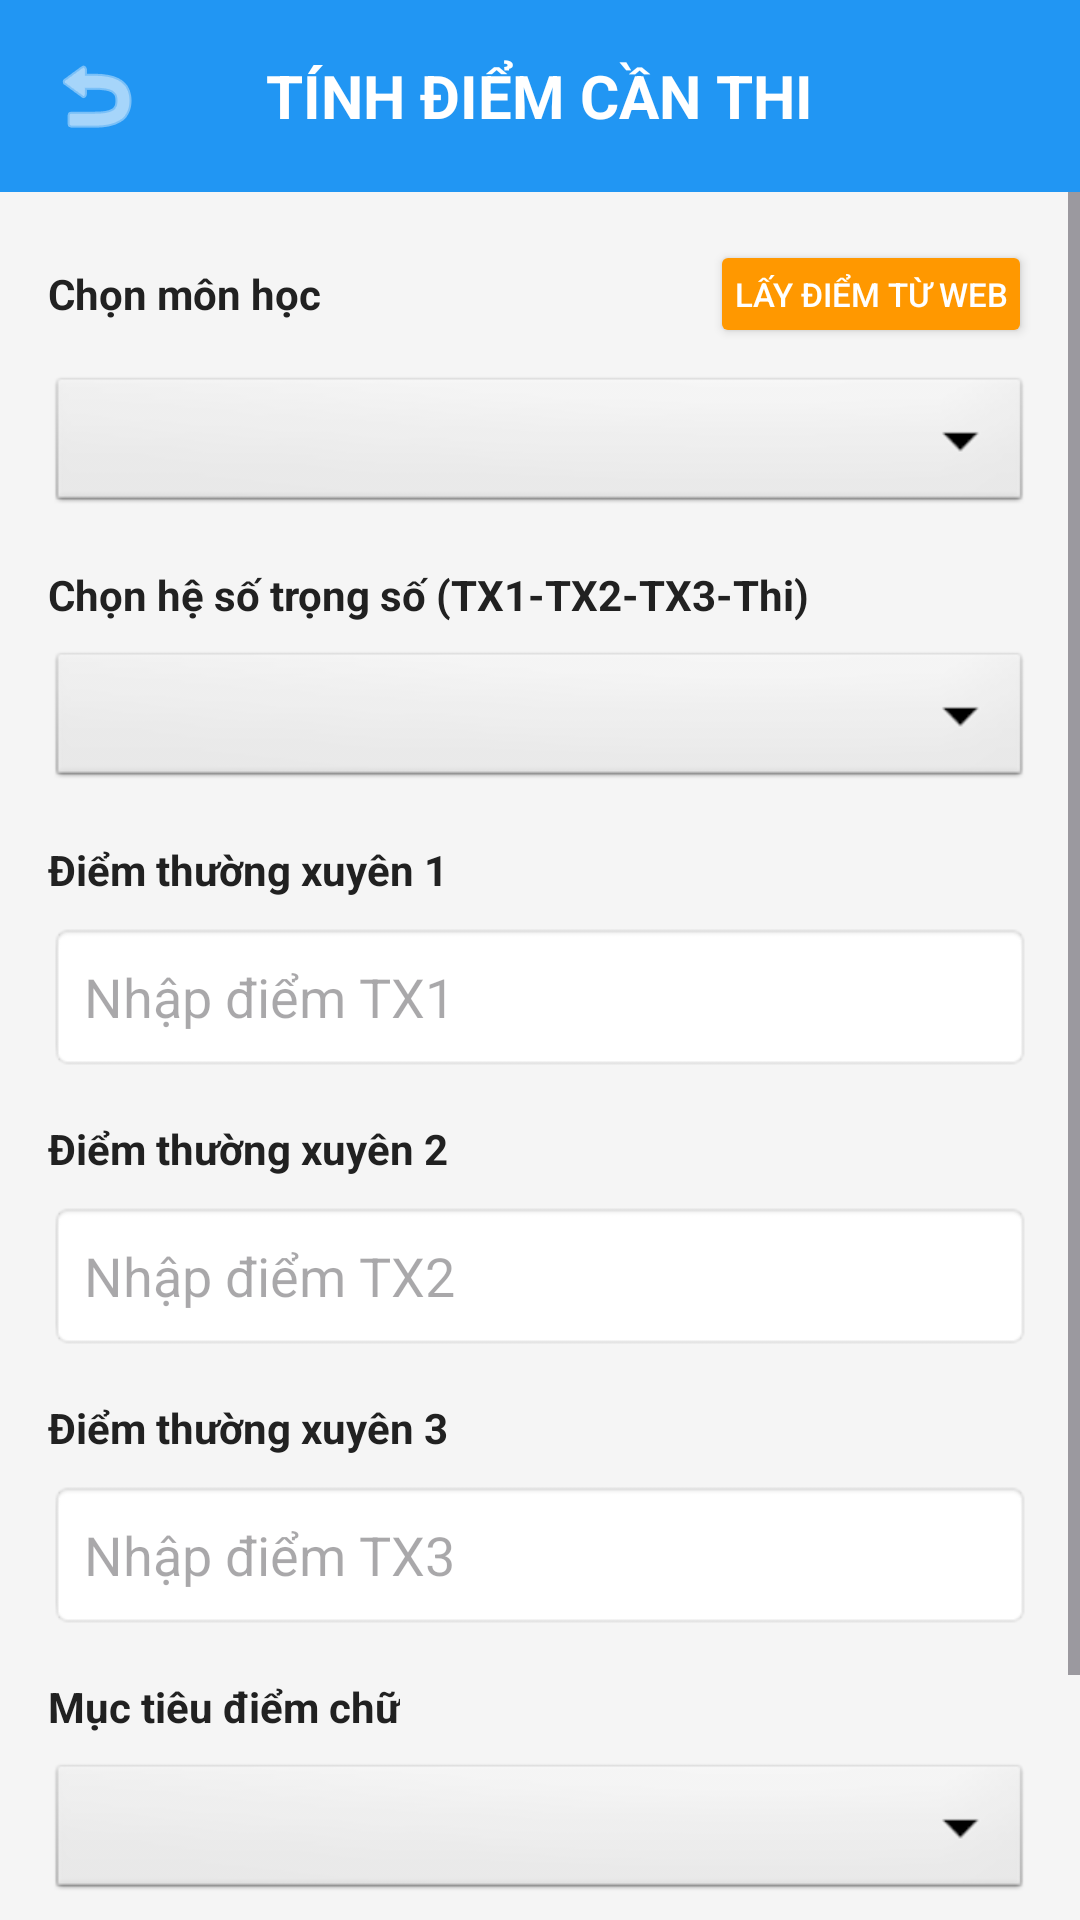

Named icons in this screenshot (1080x1920) and their centers, point (x, y):
Quay lại: point (97, 96)
